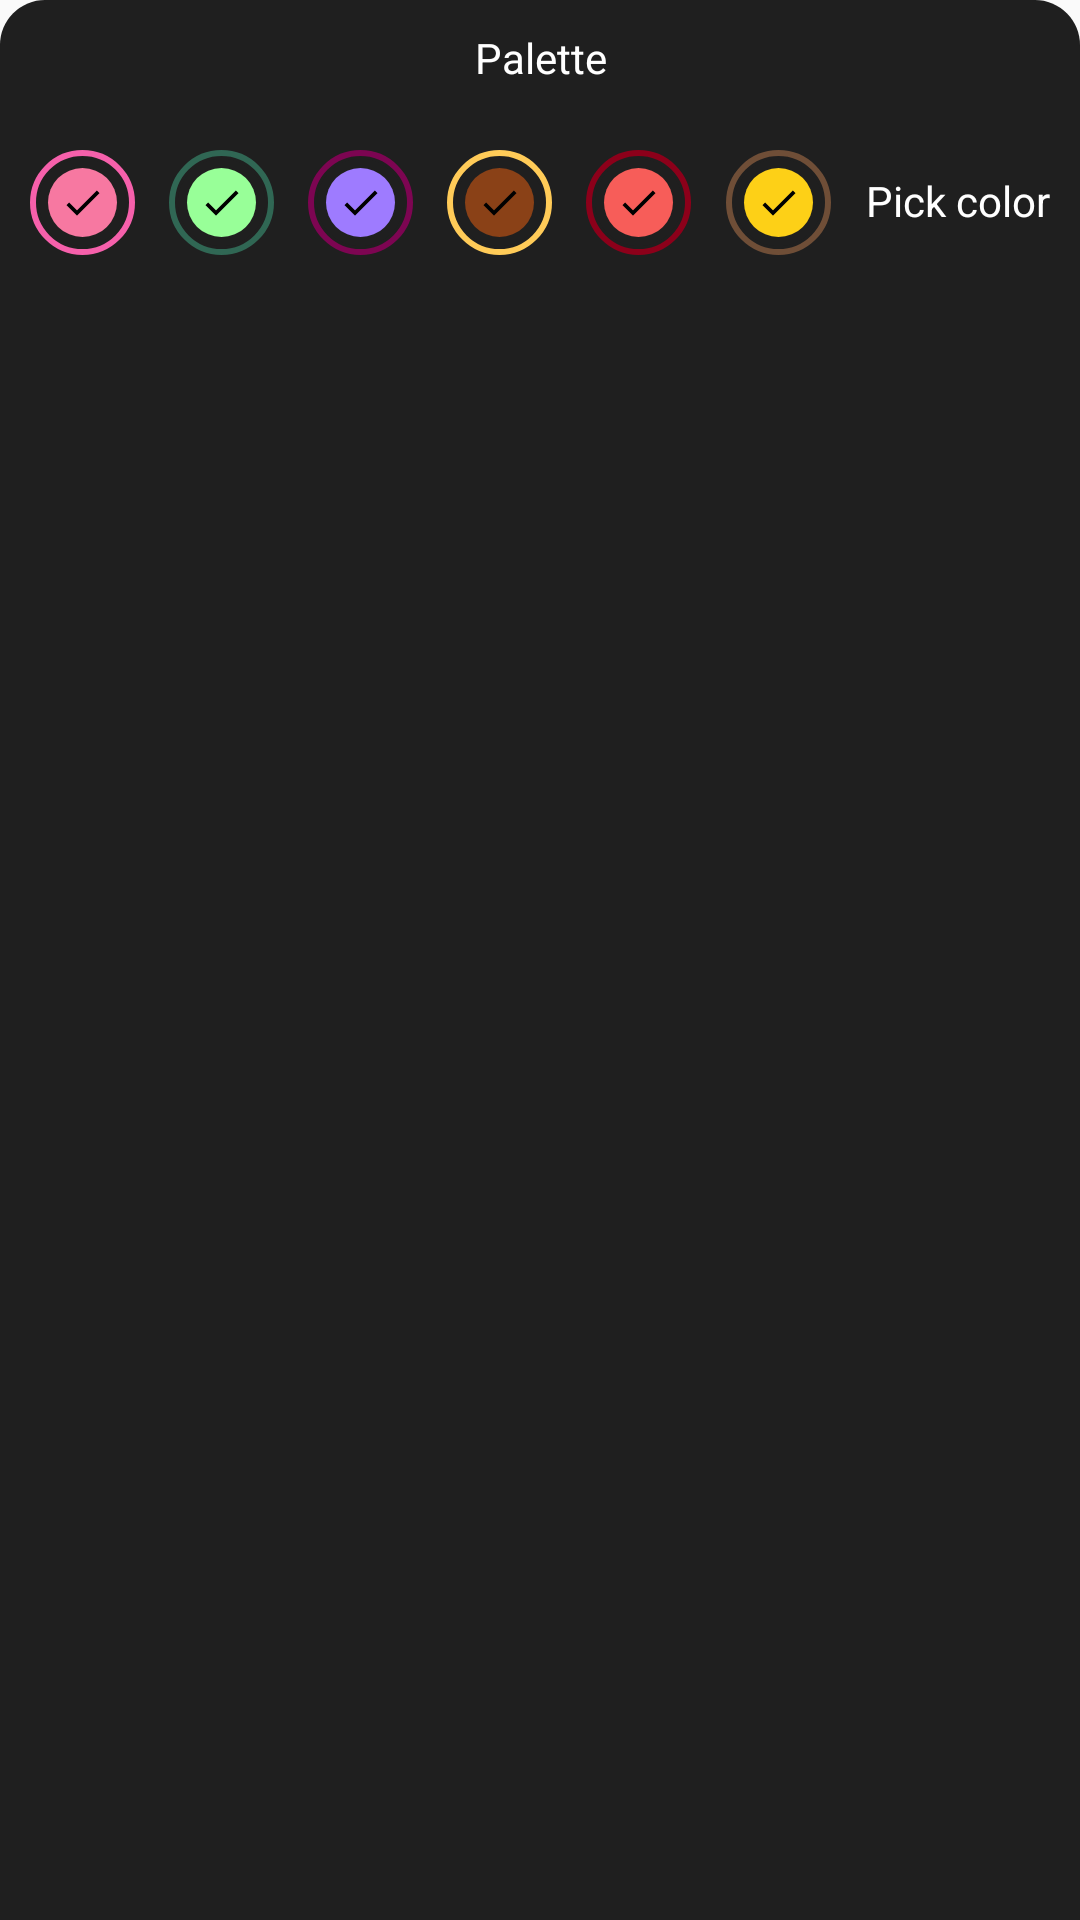

Icons on this 1080w x 1920h Android screen, each with the point to tap as (x=x, y=y):
done: (x=82, y=202), (x=221, y=202), (x=360, y=202), (x=499, y=202), (x=638, y=202), (x=778, y=202)
